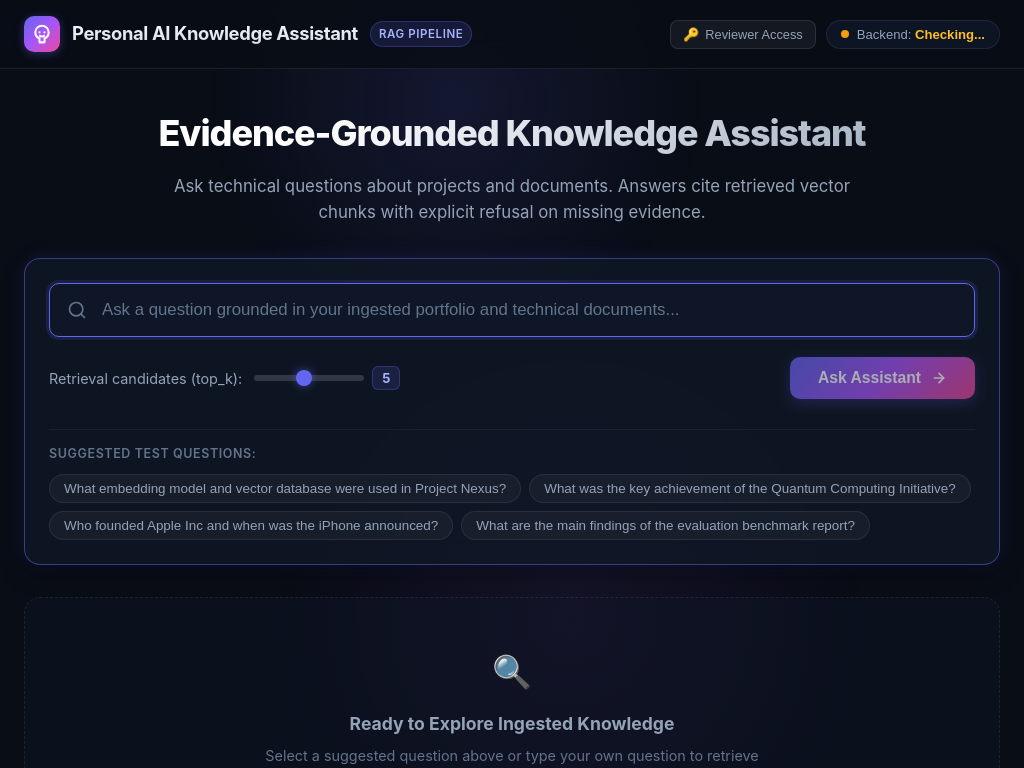
Test: Frontend UI Application (app/page.tsx) › renders abstain state properly when evidence is insufficient
This screenshot has width=1024, height=768.
Replace the text in the field with test id "search-input" with "Tell me about Mars rovers" at point(512, 310), box [49,283,975,337]
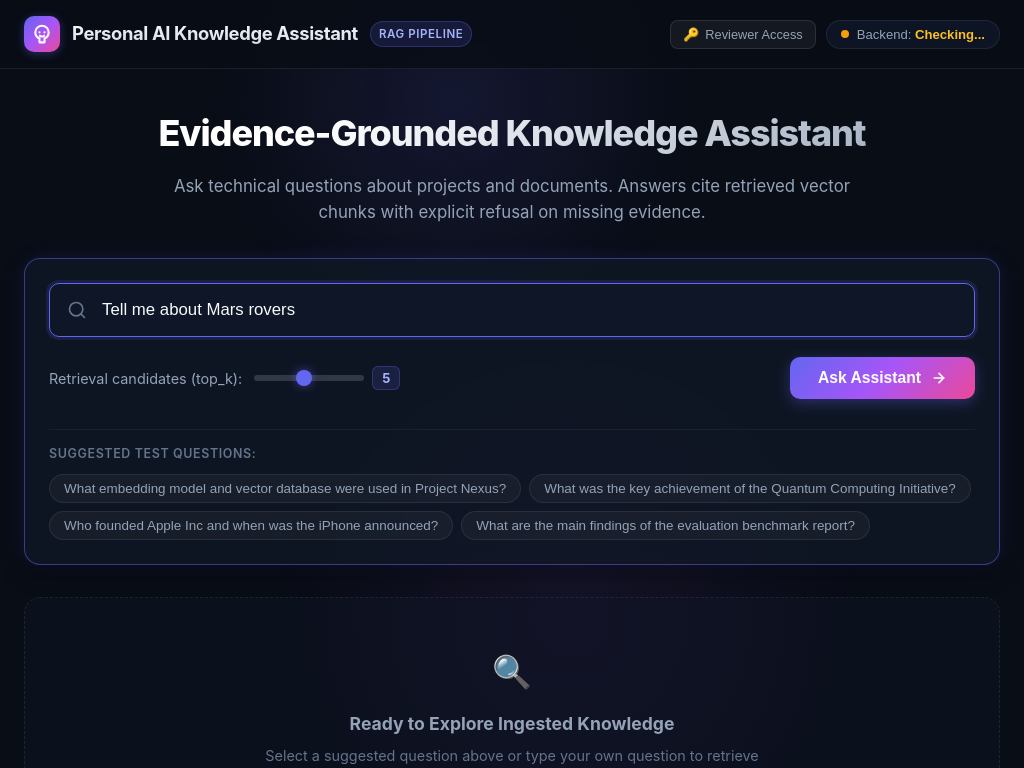
Click the button with test id "submit-btn".
click(882, 378)  # box [790,357,975,399]
(page scrolled)
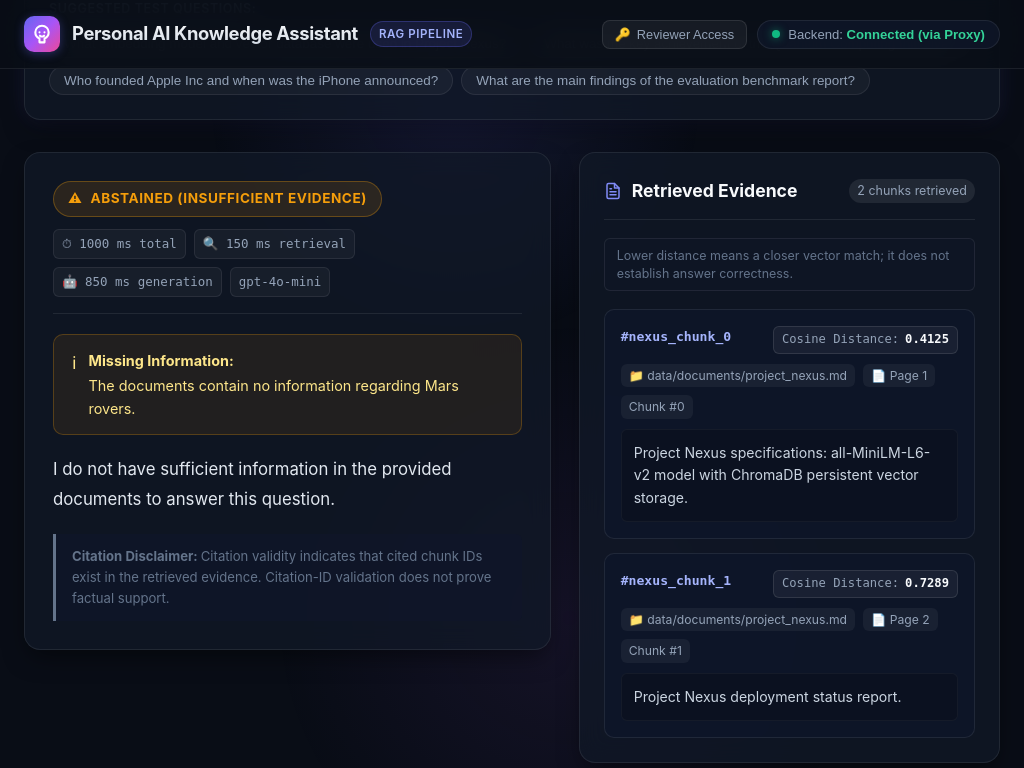
Check: the element with test id "status-pill" shows "Abstained (Insufficient Evidence)", box [90,190,367,206]
Check: the element with test id "missing-info-box" shows "The documents contain no information regarding Mars rovers.", box [88,377,459,417]
